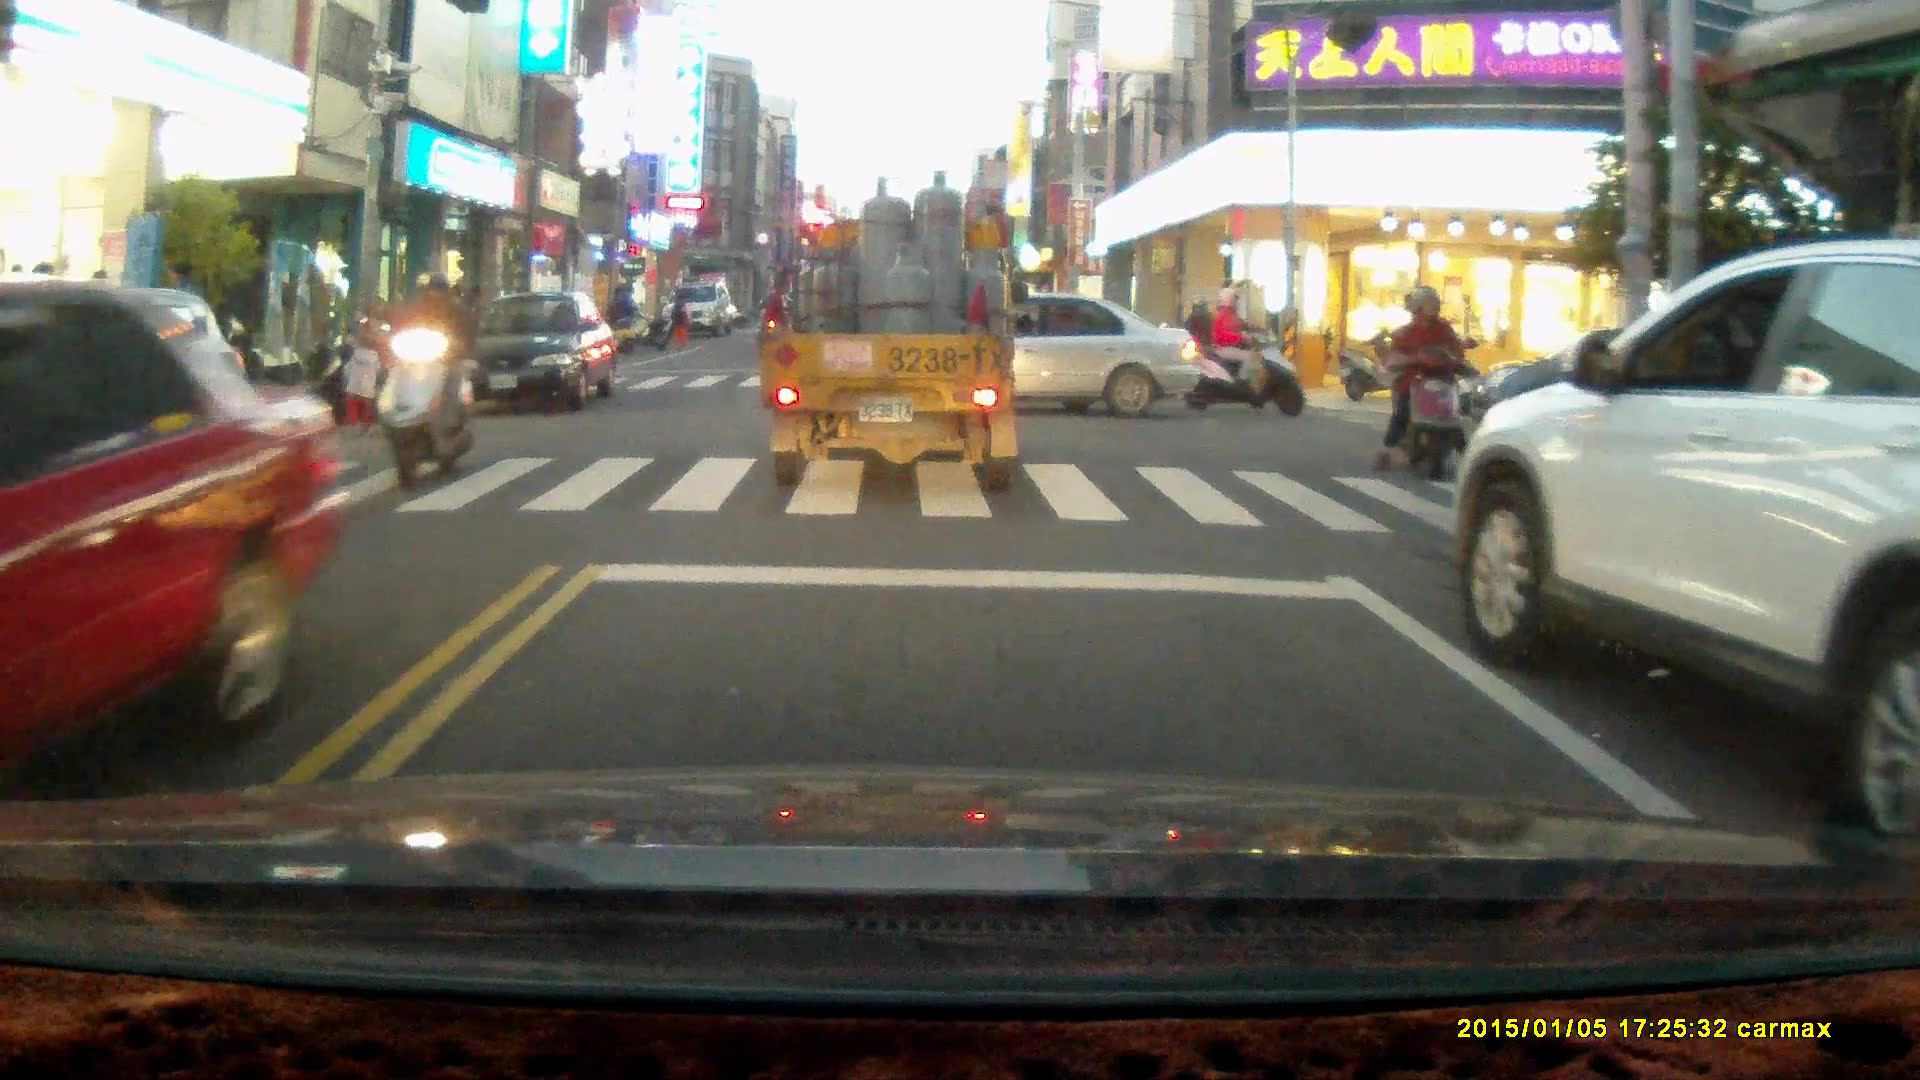pedestrian: (338, 328, 384, 438), (612, 282, 639, 345)
rider: (371, 269, 480, 494), (1369, 285, 1487, 487), (1178, 284, 1306, 413), (1137, 290, 1232, 399)
vehicle: (1454, 238, 1920, 834), (1, 275, 336, 798), (765, 177, 1026, 500), (826, 290, 1202, 419), (451, 292, 621, 416), (662, 283, 733, 336)
